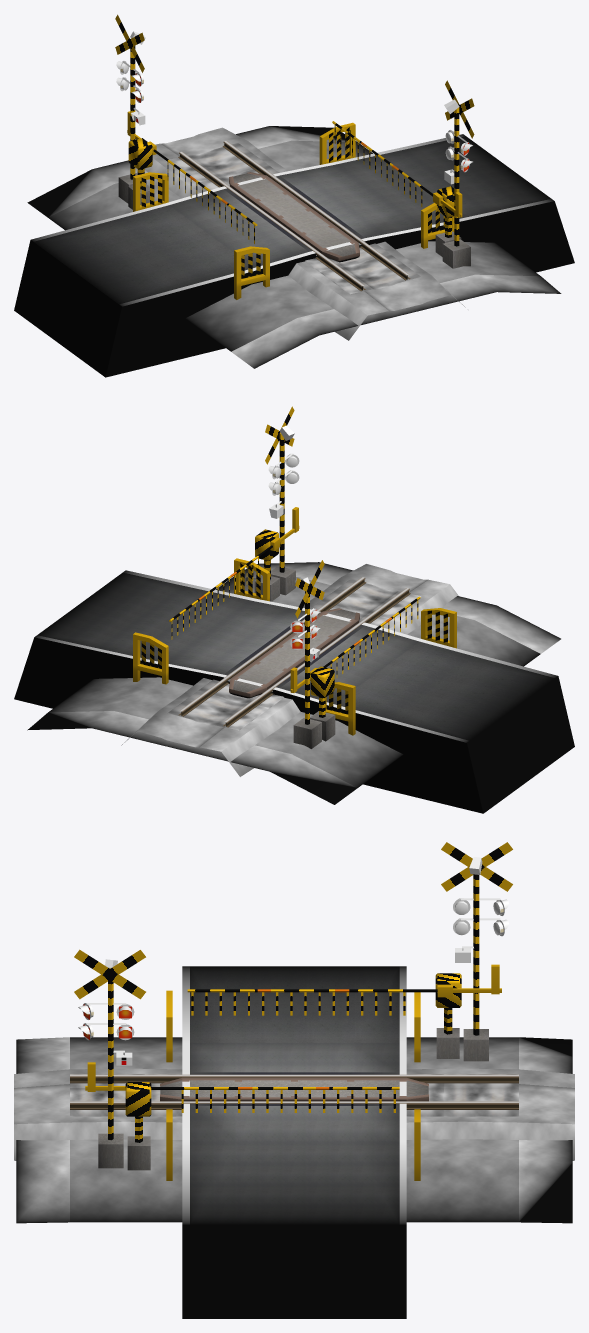
The model's file is NK_1RAIL_HUMIKIRI25.glb.
3 views of the same model, one above another, from view 1: azimuth 30°, elevation 25°; view 2: azimuth 150°, elevation 25°; view 3: azimuth 270°, elevation 25° (orthographic). The views are drawn at different scales.
Visible parts, largest first — view 1: obj3, BODY (×2), obj7, obj8, BAR4 (×2), OBI4 (×2); view 2: obj3, BODY (×2), obj7, obj8, BAR4 (×2); view 3: obj3, BODY (×2), BAR4 (×2), OBI4 (×2), obj8, obj7.
Part boxes in pixels (box(x1,y1,x2,y2)): obj3: box(14, 126, 574, 377); BODY (×2): box(115, 14, 474, 268); obj7: box(133, 122, 355, 211); obj8: box(234, 202, 454, 299); BAR4 (×2): box(127, 111, 462, 225); OBI4 (×2): box(167, 125, 422, 243); obj3: box(14, 562, 574, 813); BODY (×2): box(254, 406, 335, 748); obj7: box(133, 632, 355, 735); obj8: box(234, 558, 456, 648); BAR4 (×2): box(169, 507, 420, 692); obj3: box(14, 966, 574, 1318); BODY (×2): box(74, 842, 512, 1170); BAR4 (×2): box(85, 964, 501, 1091); OBI4 (×2): box(181, 992, 405, 1112); obj8: box(166, 990, 172, 1180); obj7: box(414, 992, 420, 1180).
Bounding box in the file's own units: 37 × 17.38 × 31.25.
33 materials, 32 textured.
